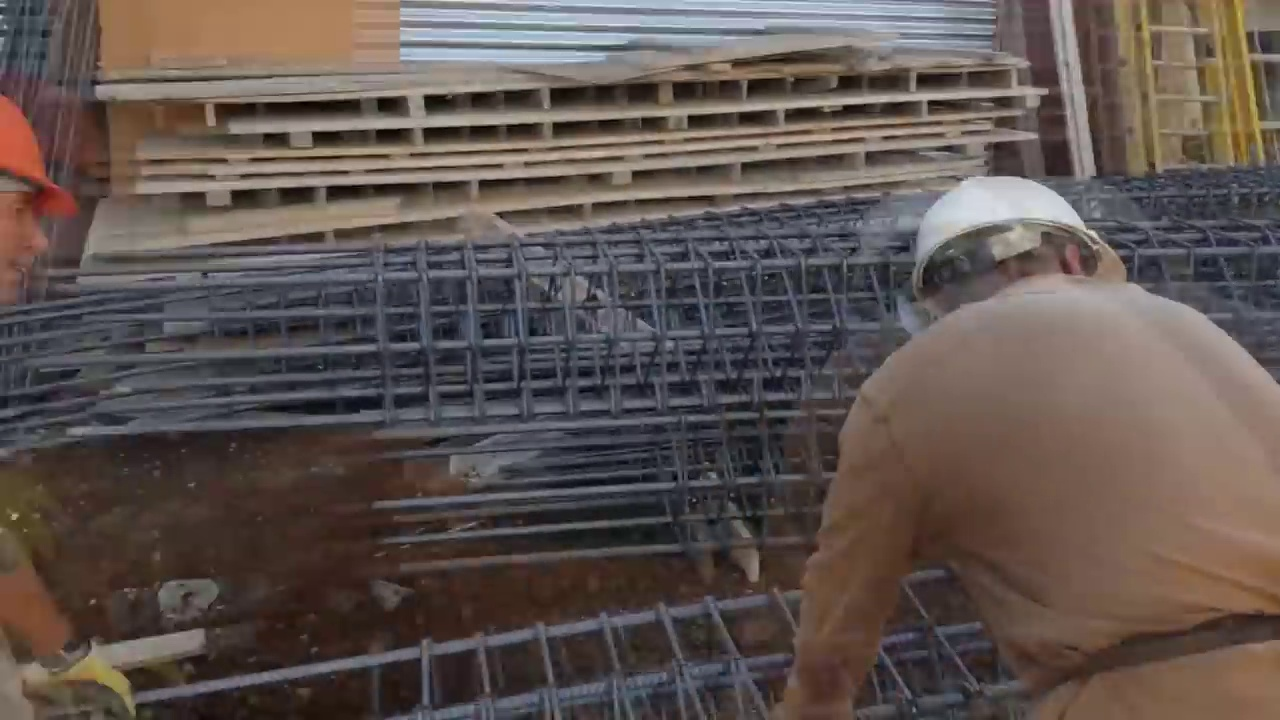helmet: (918, 172, 1116, 318), (0, 90, 81, 220)
helmet-on: (901, 172, 1137, 339), (0, 83, 81, 314)
person: (764, 175, 1280, 710)
